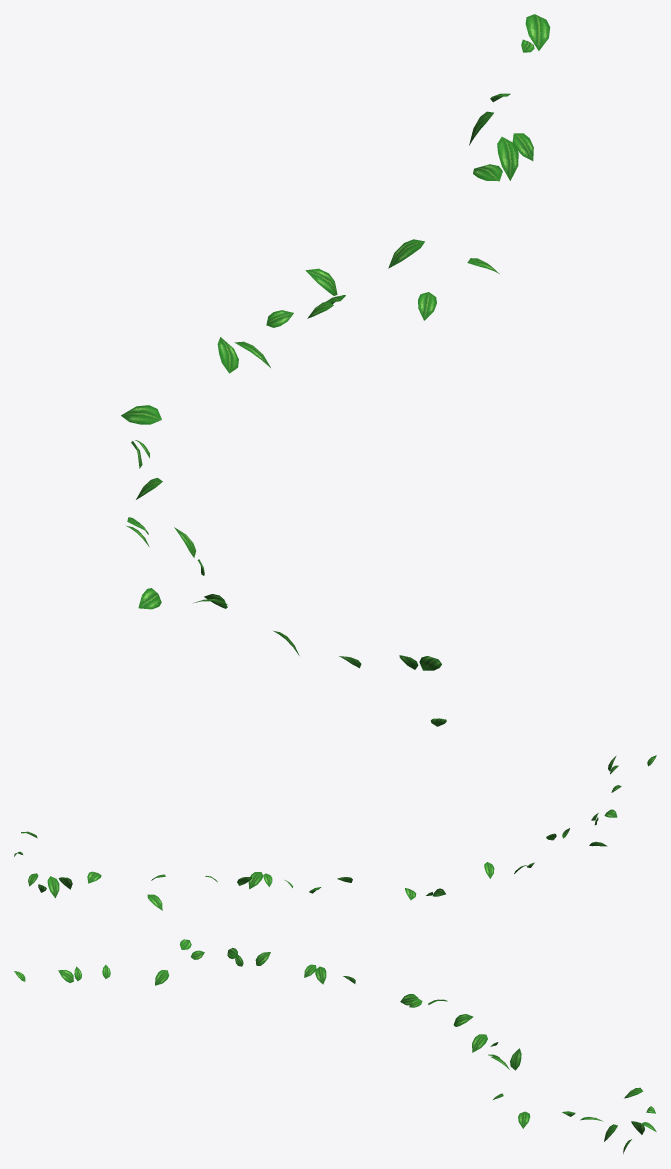
File: EKH_BARRELROOM_PS_JA1_LEAVES_0938.fbx
3 renders of one model, top to bottom at view 1: azimuth 30°, elevation 25°; view 2: azimuth 150°, elevation 25°; view 3: azimuth 270°, elevation 25°, orthographic. The views are drawn at different scales.
Visible parts, largest first — view 1: EKH_BARRELROOM_PS_JA1_LEAVES_0938; view 2: EKH_BARRELROOM_PS_JA1_LEAVES_0938; view 3: EKH_BARRELROOM_PS_JA1_LEAVES_0938.
Part boxes in pixels (x1,y1,x2,y2): EKH_BARRELROOM_PS_JA1_LEAVES_0938: (121,14,550,726); EKH_BARRELROOM_PS_JA1_LEAVES_0938: (14,755,656,910); EKH_BARRELROOM_PS_JA1_LEAVES_0938: (14,939,656,1153).
Bounding box in the file's own units: 52695 × 9808 × 69389.
Materials: 1 (1 with a texture image).
